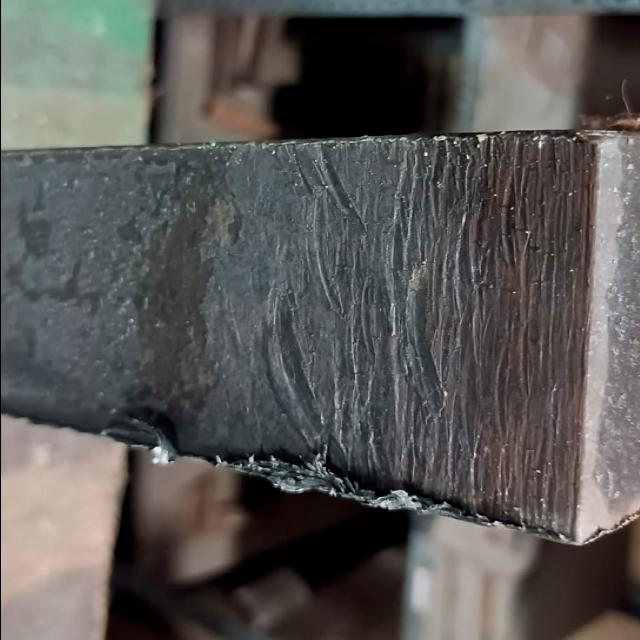defect: (112, 132, 593, 539)
